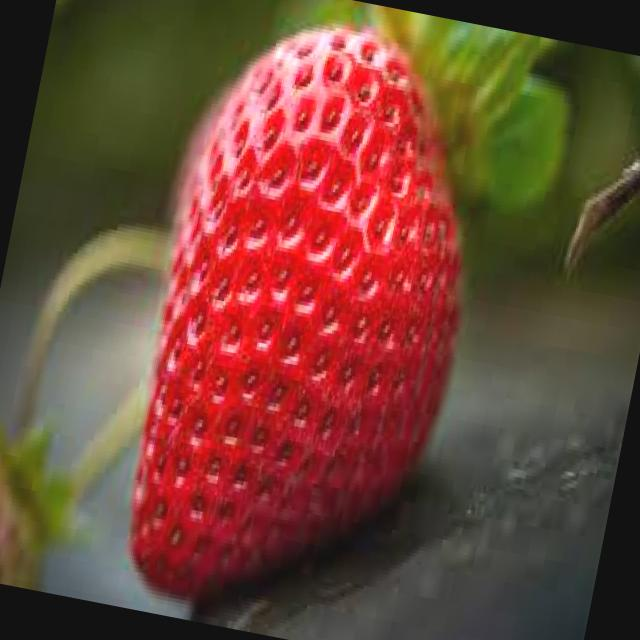strawberry: (87, 1, 531, 640)
